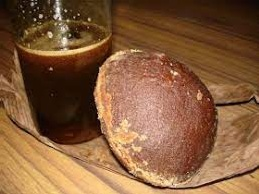hakuru: (92, 45, 220, 187)
